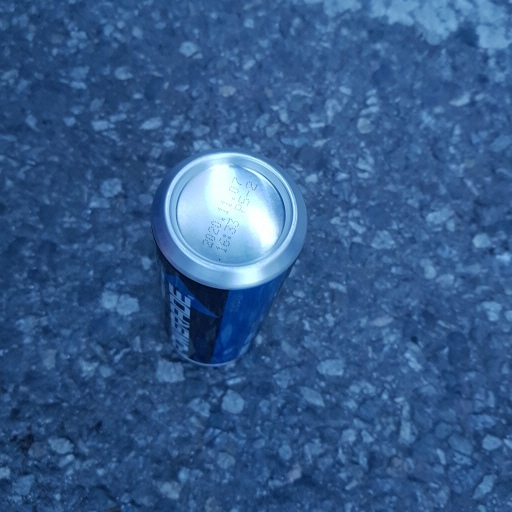Metal_0: (151, 148, 308, 369)
